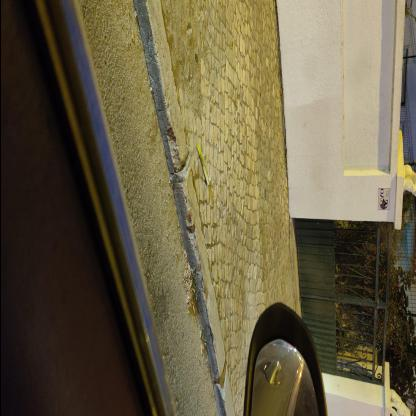karton: (195, 140, 209, 186)
